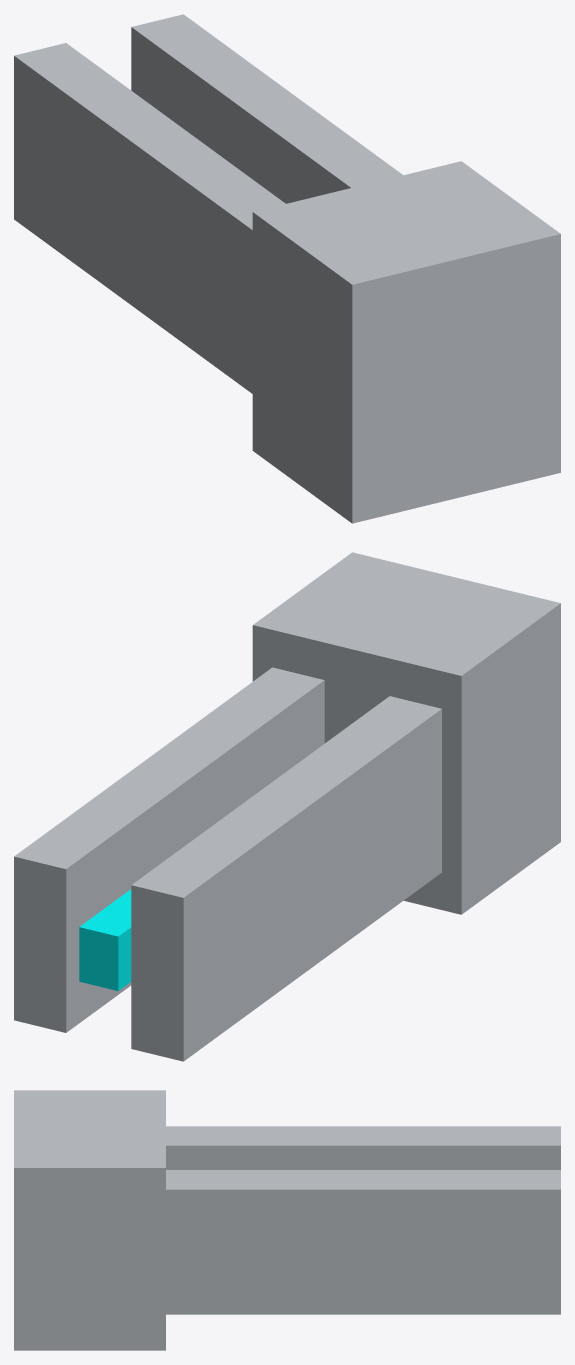
Rendered from Weapons_Railgun_00.glb.
3 renders of one model, top to bottom at view 1: azimuth 30°, elevation 25°; view 2: azimuth 150°, elevation 25°; view 3: azimuth 270°, elevation 25°, orthographic. The views are drawn at different scales.
Visible parts, largest first — view 1: Weapons_Railgun_00_gltf_export_temp; view 2: Weapons_Railgun_00_gltf_export_temp; view 3: Weapons_Railgun_00_gltf_export_temp.
Boxes of the visible parts, x1=… form: Weapons_Railgun_00_gltf_export_temp: x1=14, y1=14, x2=560, y2=523; Weapons_Railgun_00_gltf_export_temp: x1=14, y1=552, x2=560, y2=1061; Weapons_Railgun_00_gltf_export_temp: x1=14, y1=1090, x2=560, y2=1350.
Bounding box in the file's own units: 0.4291 × 0.4693 × 1.27.
